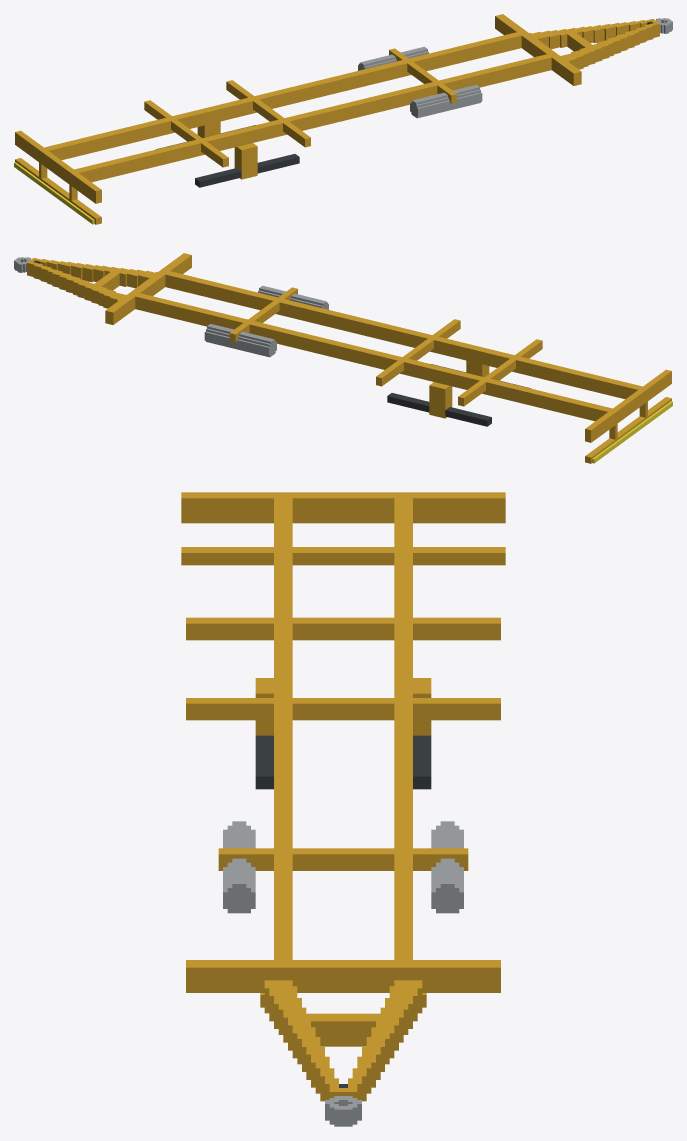
The model's file is log_trailer_chassis.glb.
The picture shows the model from 3 angles, top to bottom: view 1: azimuth 30°, elevation 25°; view 2: azimuth 150°, elevation 25°; view 3: azimuth 270°, elevation 25°; orthographic projection. The views are drawn at different scales.
Visible parts, largest first — view 1: body:compound; view 2: body:compound; view 3: body:compound.
Part boxes in pixels (x1,y1,x2,y2): body:compound: (14,14,672,224); body:compound: (14,253,672,463); body:compound: (181,492,505,1126).
Size of the model in its own units: 9.62 by 0.625 by 2.19.
